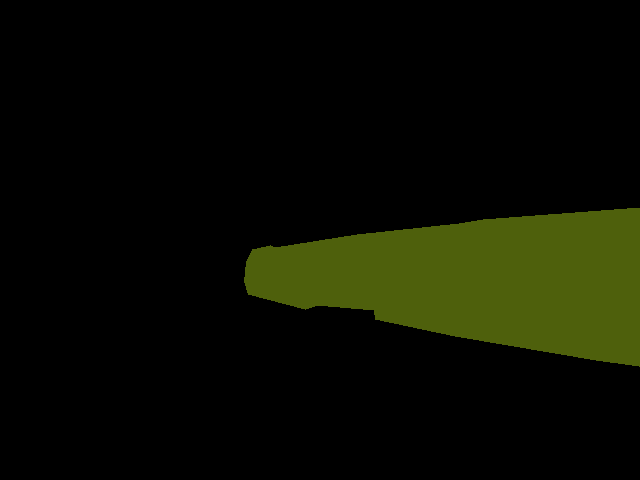Train: (244, 207, 640, 367)
